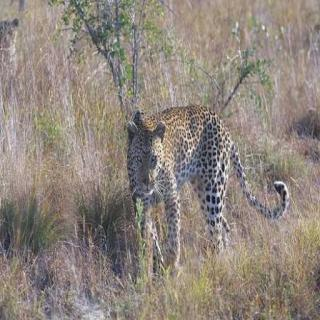Leopard: (107, 87, 294, 270)
